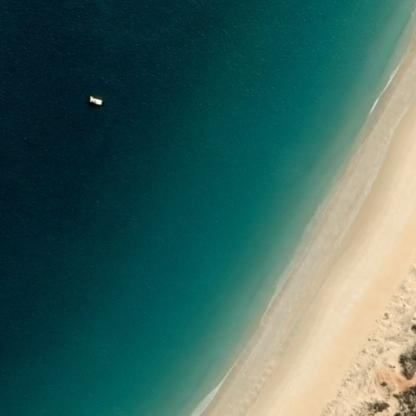ship: (80, 87, 108, 112)
